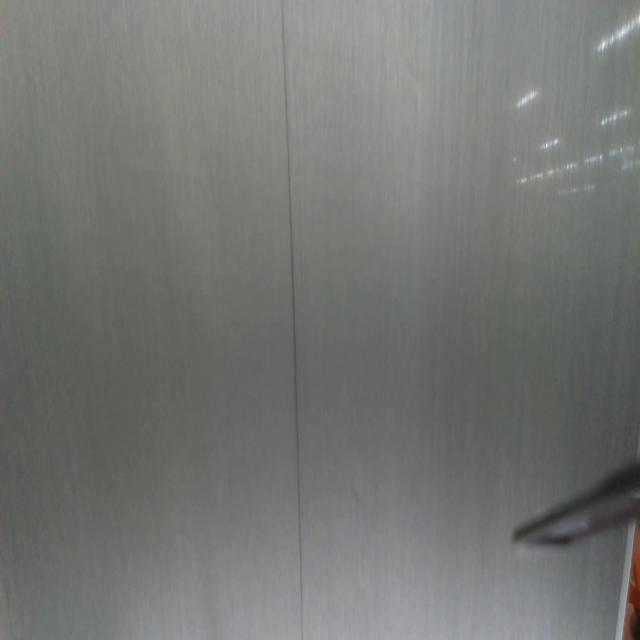crease: (281, 0, 307, 640)
